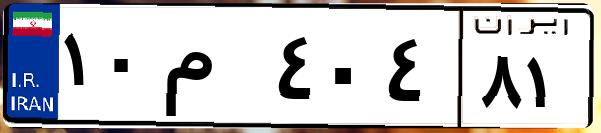0: (330, 28, 385, 110), (110, 28, 158, 98)
1: (57, 26, 110, 100), (525, 38, 570, 115)
4: (270, 28, 330, 110), (385, 28, 445, 110)
8: (475, 38, 525, 113)
م: (158, 20, 270, 120)
